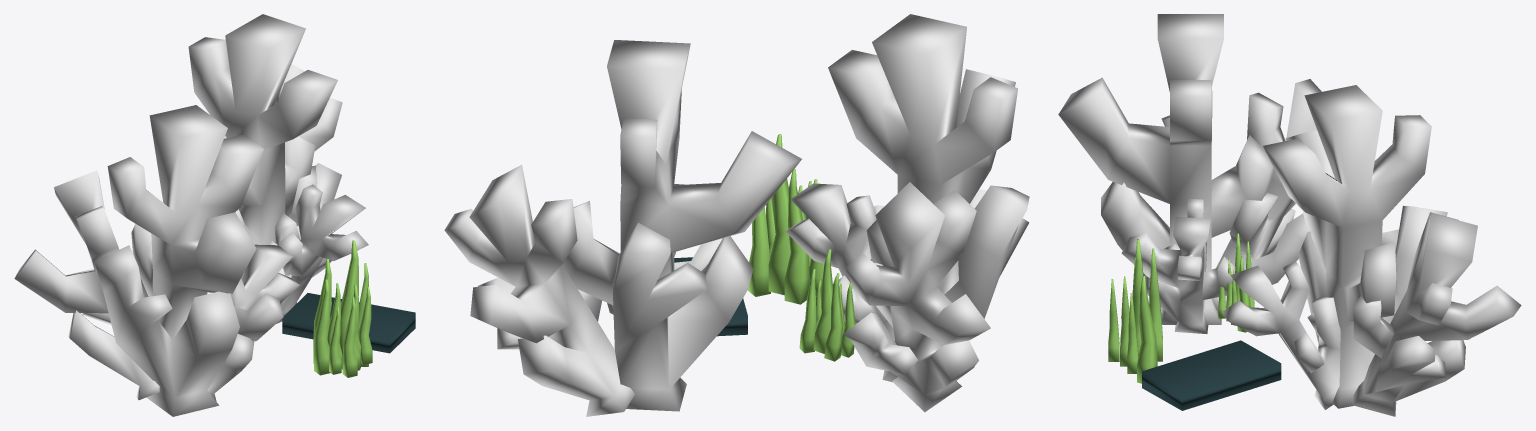
The model's file is coral-enviornment-white.glb.
The picture shows the model from 3 angles, left to right: view 1: azimuth 30°, elevation 25°; view 2: azimuth 150°, elevation 25°; view 3: azimuth 270°, elevation 25°; orthographic projection. The views are drawn at different scales.
Parts seen in each view (by area): view 1: Coral, Coral.001, grass.001, stone; view 2: Coral.001, Coral, grass.001, grass, stone; view 3: Coral.001, Coral, stone, grass.001, grass.
Boxes of the visible parts, bbox=[...] form: Coral: bbox=[14, 105, 299, 416]; Coral.001: bbox=[188, 14, 368, 323]; grass.001: bbox=[313, 240, 372, 377]; stone: bbox=[282, 293, 415, 353]; Coral.001: bbox=[444, 40, 801, 416]; Coral: bbox=[785, 14, 1029, 412]; grass.001: bbox=[747, 134, 824, 304]; grass: bbox=[799, 249, 855, 361]; stone: bbox=[674, 257, 747, 336]; Coral.001: bbox=[1222, 85, 1521, 416]; Coral: bbox=[1058, 14, 1321, 333]; stone: bbox=[1142, 340, 1281, 410]; grass.001: bbox=[1108, 239, 1162, 383]; grass: bbox=[1218, 233, 1254, 332].
Bounding box in the file's own units: 6.3 × 4.49 × 6.27.
